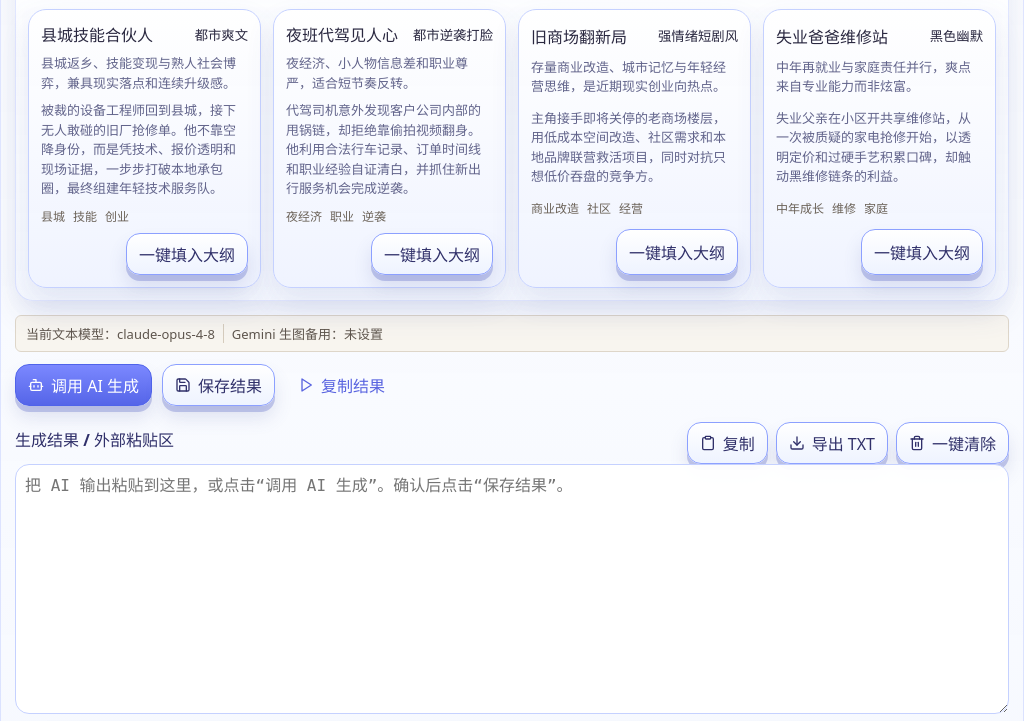
Workspace AI settings › shows a unified friendly message when a text-generation proxy request does not complete
(page scrolled)
Click the button "调用 AI 生成" at (84, 384), box [15,364,152,406]
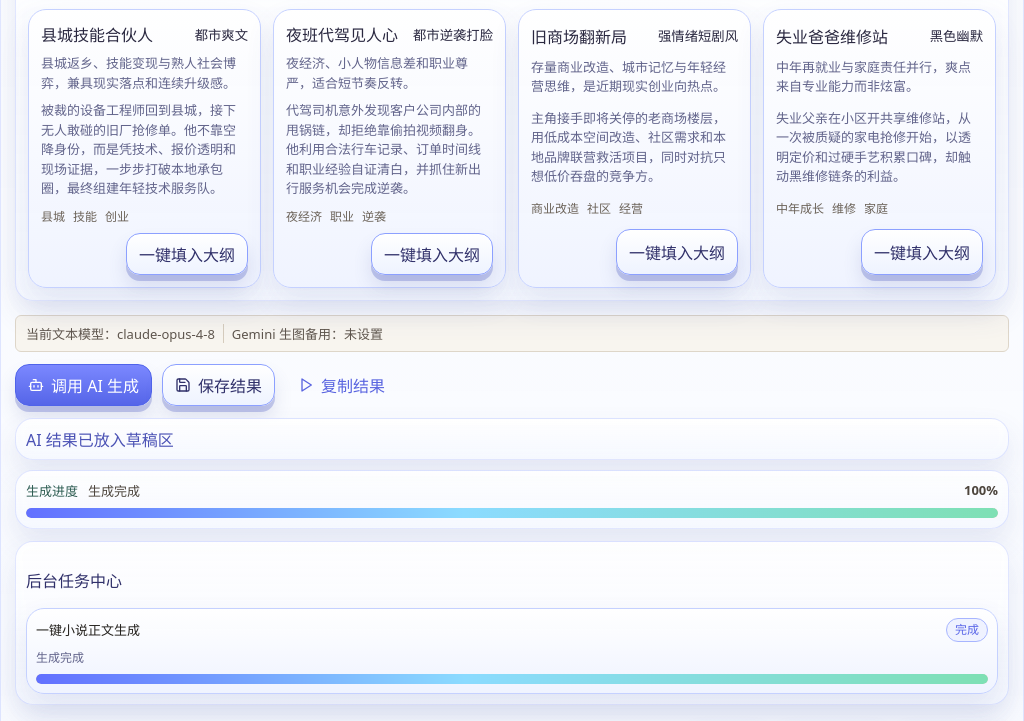
Expected: the text "AI 结果已放入草稿区" is shown, [15,418,1009,460]
